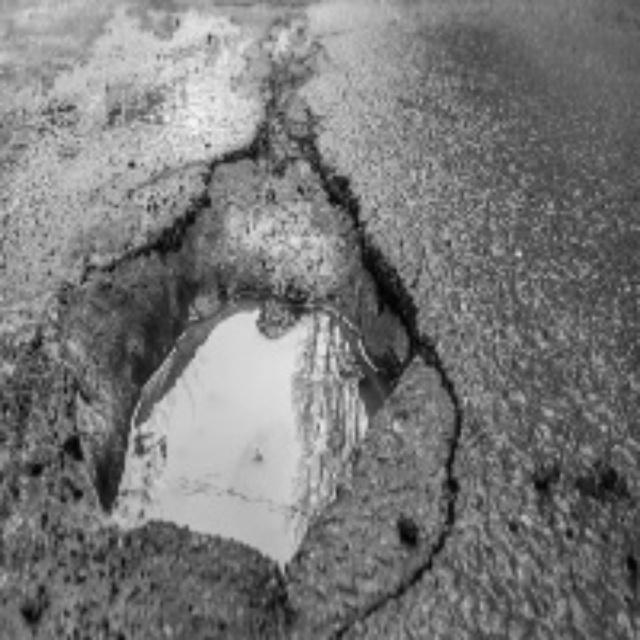Pothole: (53, 137, 460, 598)
